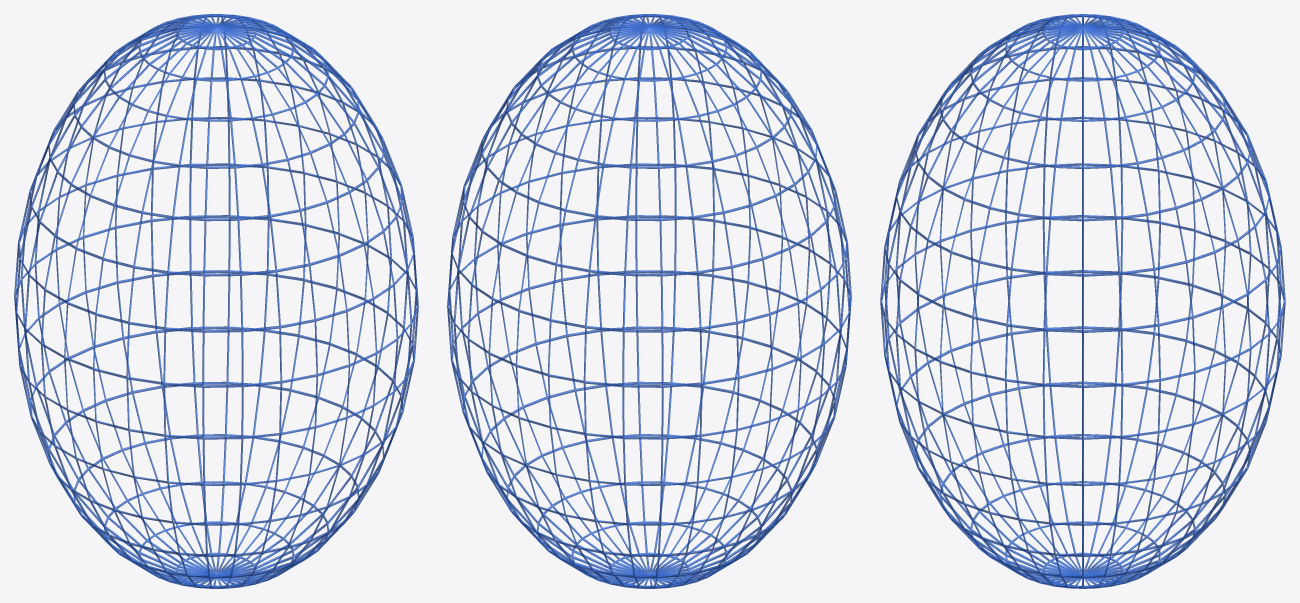
The model's file is egg_c3.glb.
3 views of the same model, side by side, from view 1: azimuth 30°, elevation 25°; view 2: azimuth 150°, elevation 25°; view 3: azimuth 270°, elevation 25° (orthographic).
Parts seen in each view (by area): view 1: egg1_3; view 2: egg1_3; view 3: egg1_3.
Part boxes in pixels (bbox=[...]): egg1_3: bbox=[14, 14, 418, 588]; egg1_3: bbox=[447, 14, 851, 588]; egg1_3: bbox=[880, 14, 1285, 588].
Bounding box in the file's own units: 0.804 × 1.21 × 0.804.
